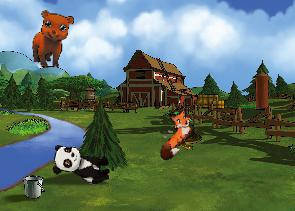bear: (32, 10, 74, 69)
fox: (143, 102, 204, 163)
panda: (49, 142, 114, 186)
